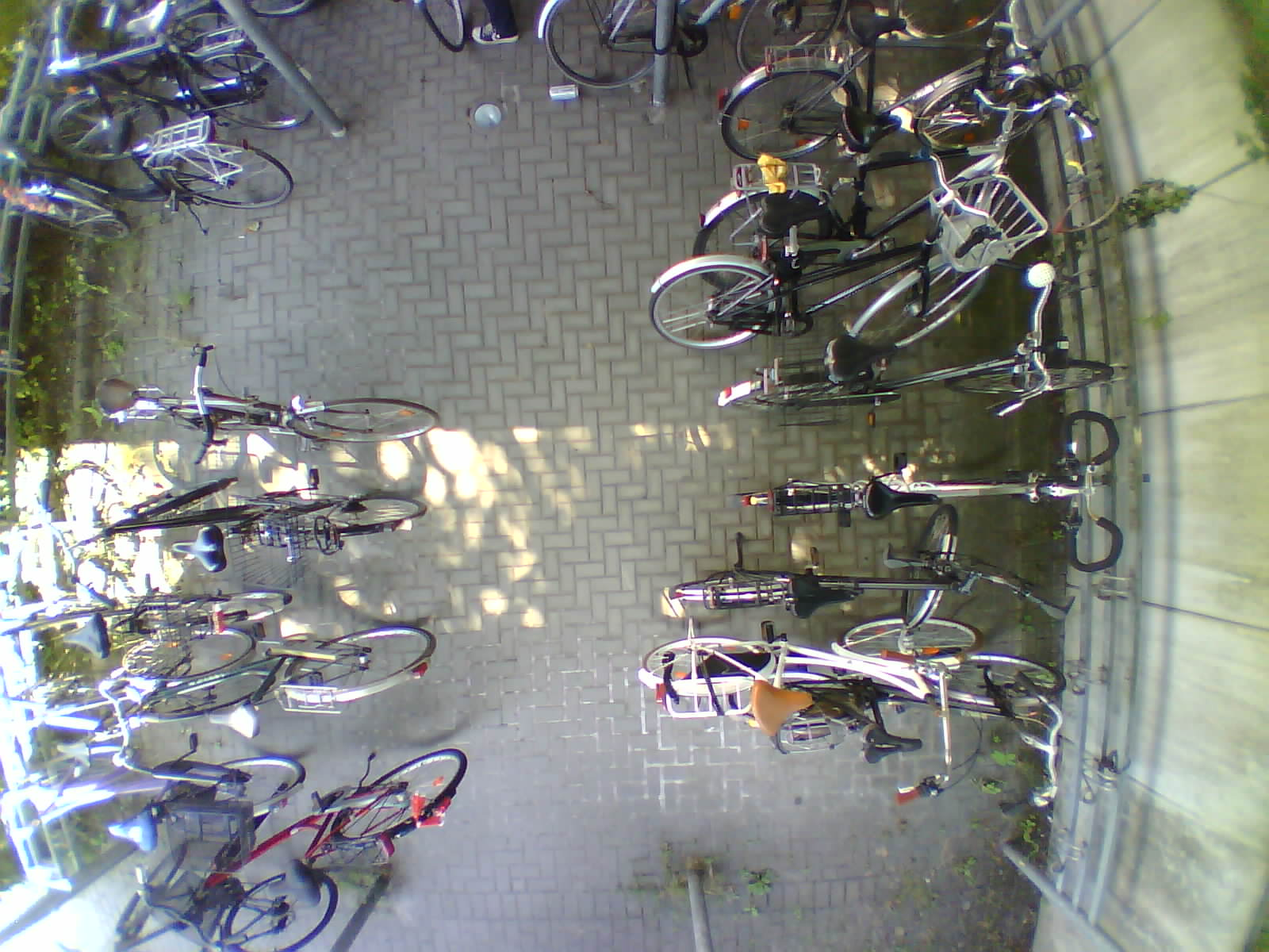bicylce: (648, 196, 997, 353), (694, 113, 1036, 269), (719, 27, 1054, 175), (181, 748, 468, 891), (638, 616, 974, 726), (675, 504, 980, 624), (0, 115, 291, 240), (720, 336, 1111, 428), (111, 624, 436, 731), (89, 480, 428, 579), (734, 656, 1067, 756), (17, 743, 309, 849), (101, 374, 442, 448), (10, 668, 277, 756), (109, 850, 341, 951), (734, 464, 1096, 528), (6, 582, 296, 660), (49, 29, 273, 113)
saddle: (753, 680, 813, 737), (827, 332, 898, 380), (841, 107, 901, 159), (763, 194, 828, 240), (796, 575, 859, 622), (867, 481, 939, 518), (70, 113, 132, 155), (863, 726, 923, 768), (844, 6, 908, 45), (172, 528, 226, 573), (269, 860, 320, 907), (209, 699, 259, 742), (62, 616, 110, 660), (108, 813, 158, 855), (95, 376, 140, 417), (125, 0, 172, 39), (56, 744, 94, 769)
